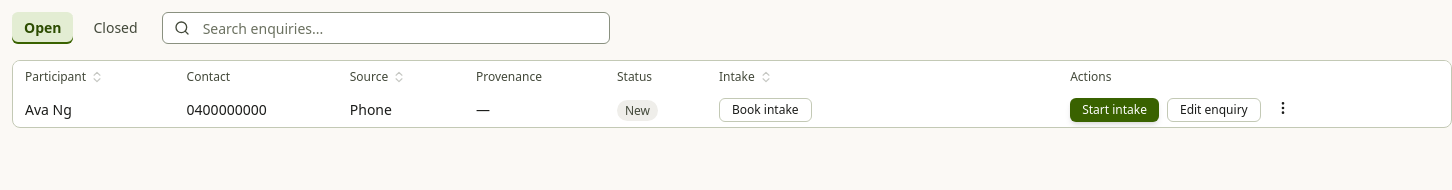
Test: InquiriesPage — Start intake failures › shows the server's own reason, not a fixed sentence
The image size is (1452, 190).
Click the button "Start intake".
click(1114, 110)  # box [1070,98,1159,122]
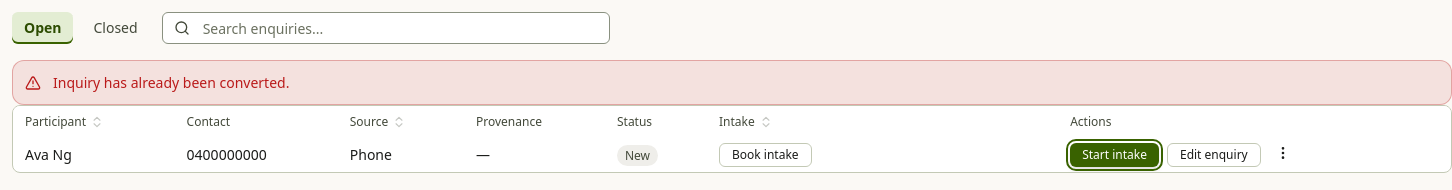
Now the message reads "Inquiry has already been converted.", box [53,73,289,92]
